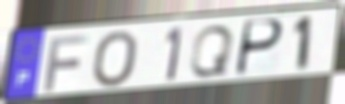1: (290, 14, 315, 74), (164, 25, 184, 84)
F: (42, 33, 92, 94)
O: (90, 29, 141, 89)
P: (232, 17, 286, 79)
Q: (187, 24, 237, 79)
